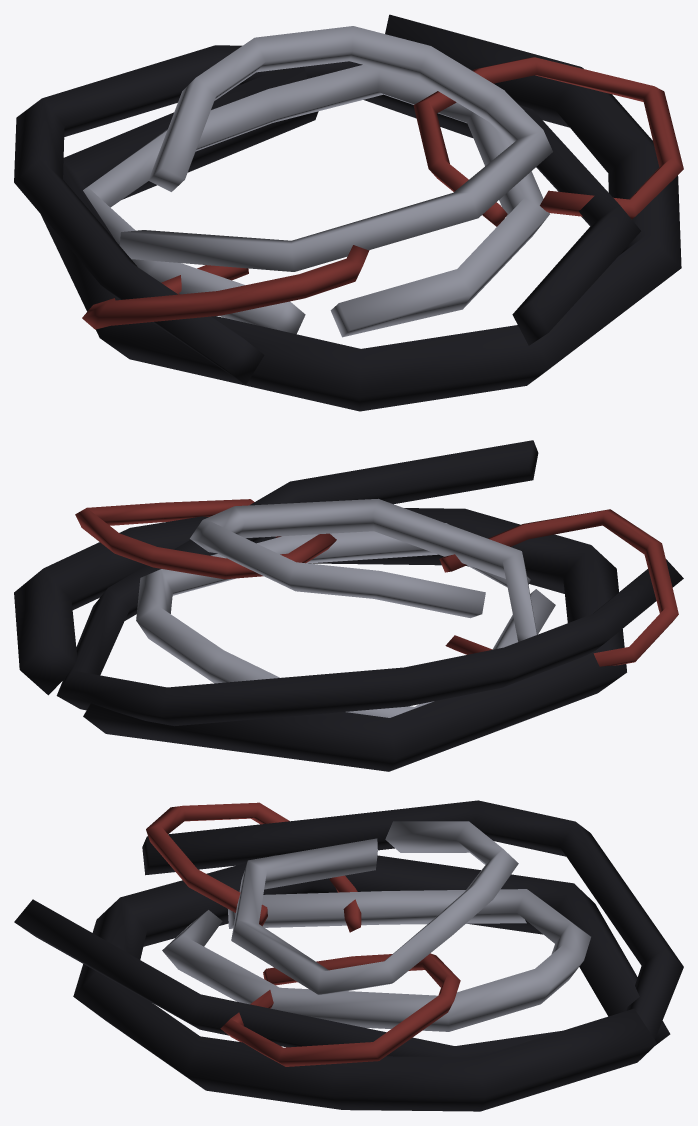
Rendered from BundleWires.fbx.
3 renders of one model, top to bottom at view 1: azimuth 30°, elevation 25°; view 2: azimuth 150°, elevation 25°; view 3: azimuth 270°, elevation 25°, orthographic. The views are drawn at different scales.
Parts seen in each view (by area): view 1: BundleWires; view 2: BundleWires; view 3: BundleWires.
Part boxes in pixels (bbox=[...]): BundleWires: bbox=[14, 14, 683, 411]; BundleWires: bbox=[14, 440, 683, 771]; BundleWires: bbox=[14, 800, 683, 1111].
Size of the model in its own units: 0.3327 by 0.0922 by 0.3544.
